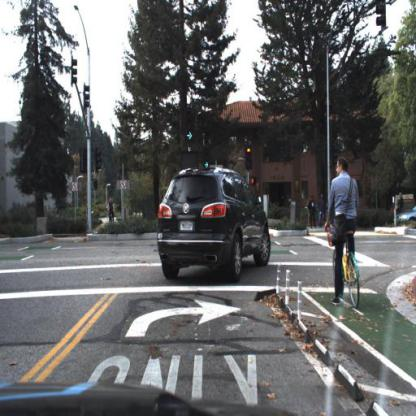biker: (325, 152, 361, 315), (107, 198, 117, 227)
car: (153, 165, 272, 289), (391, 204, 416, 238)
pedestrian: (309, 196, 319, 232), (319, 191, 328, 230)
trafficLight: (186, 113, 194, 146), (203, 146, 210, 170)
trafficLight-Red: (246, 148, 252, 169)
